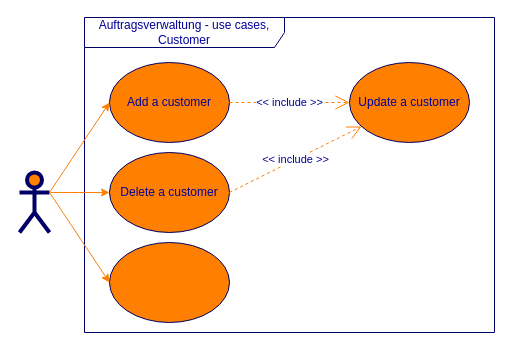
This 512x350 diagram has some shape labels left out. Here are the shapes that lost their labels. From the top down, the centre of each, then its label:
At (x=34, y=202): "User".
At (x=169, y=282): "Search a customer".
